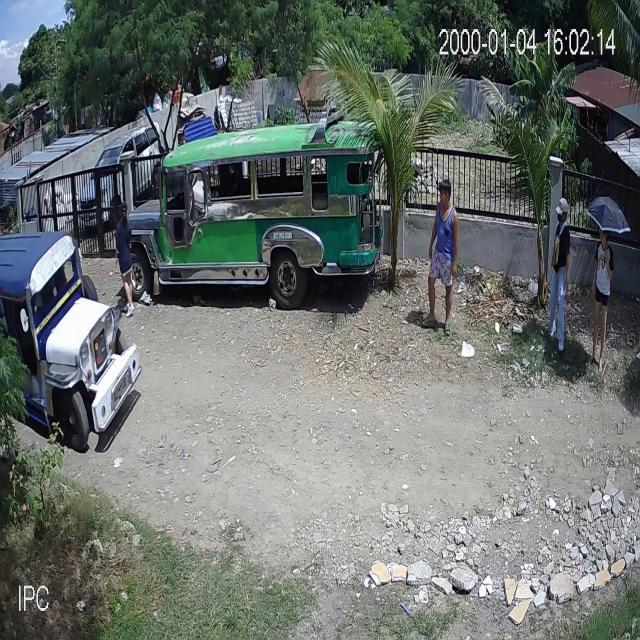standing: (587, 221, 613, 374)
walking: (420, 180, 460, 338), (545, 200, 574, 362), (108, 204, 137, 317)
